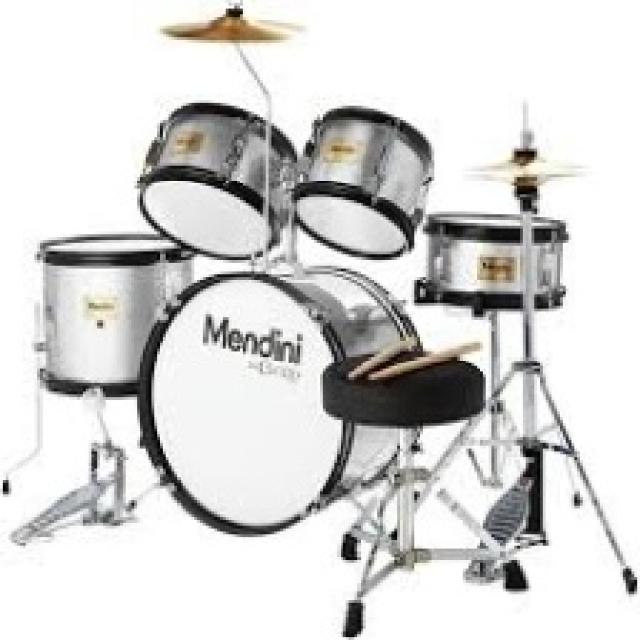drums: (8, 5, 640, 628)
